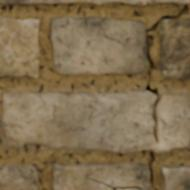brick: (50, 17, 145, 75), (52, 162, 149, 189), (0, 17, 38, 77), (160, 20, 189, 78), (0, 0, 189, 5), (0, 164, 37, 189), (161, 166, 189, 189)
broken_brick: (1, 88, 154, 153), (156, 92, 189, 153)
crack: (145, 2, 189, 187)
